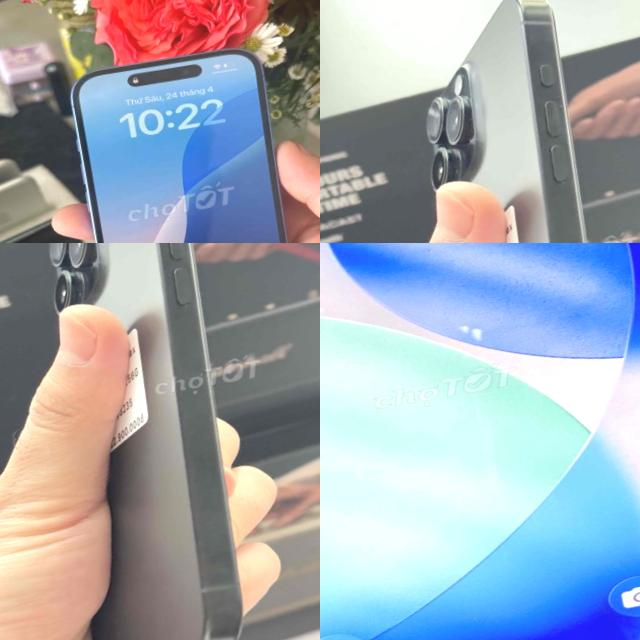gen_16: (320, 243, 640, 640), (48, 243, 241, 640), (71, 49, 285, 243), (425, 0, 587, 243)
